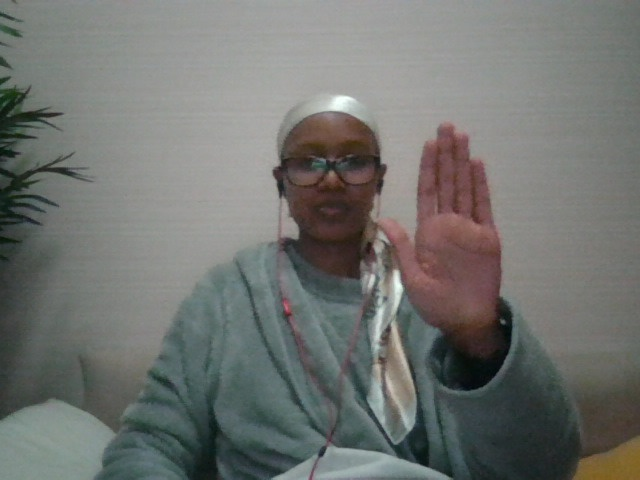highfive: (372, 113, 521, 358)
